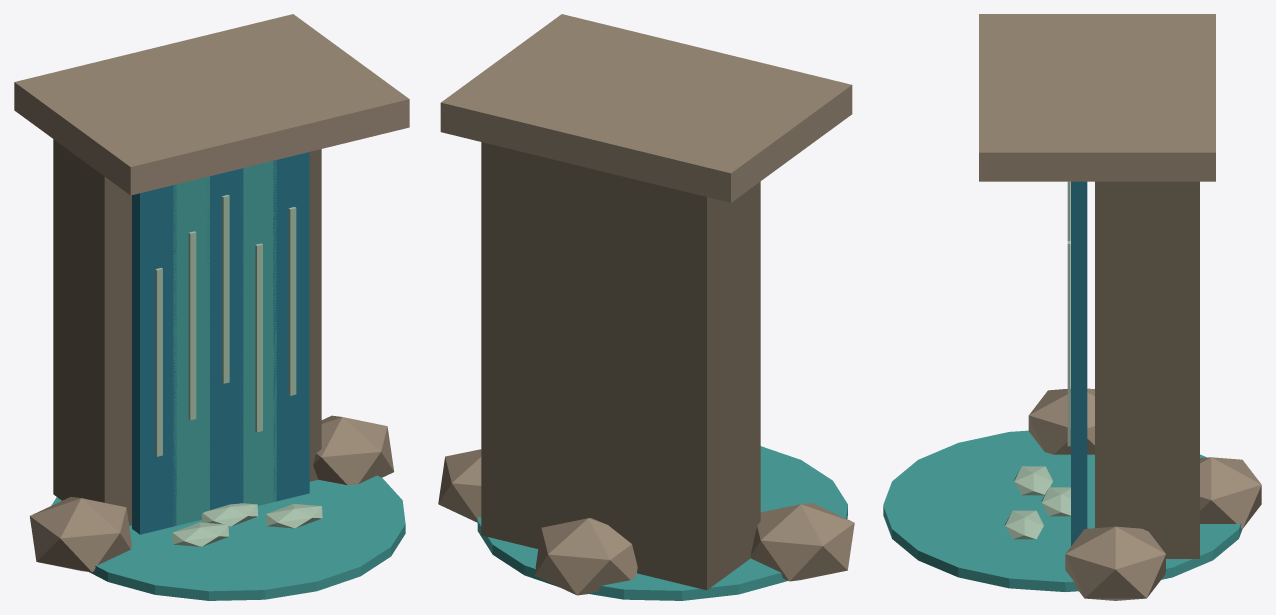
File: Tropical_WaterfallCascade_Showcase.glb
The picture shows the model from 3 angles, left to right: view 1: azimuth 30°, elevation 25°; view 2: azimuth 150°, elevation 25°; view 3: azimuth 270°, elevation 25°; orthographic projection. The views are drawn at different scales.
Parts seen in each view (by area): view 1: Tropical_WaterfallCascade_Showcase; view 2: Tropical_WaterfallCascade_Showcase; view 3: Tropical_WaterfallCascade_Showcase.
Boxes of the visible parts, box(x1,y1,x2,y2) form: Tropical_WaterfallCascade_Showcase: box(14, 14, 409, 600); Tropical_WaterfallCascade_Showcase: box(438, 14, 854, 600); Tropical_WaterfallCascade_Showcase: box(883, 14, 1261, 600).
Bounding box in the file's own units: 4.76 × 5.43 × 4.15.
